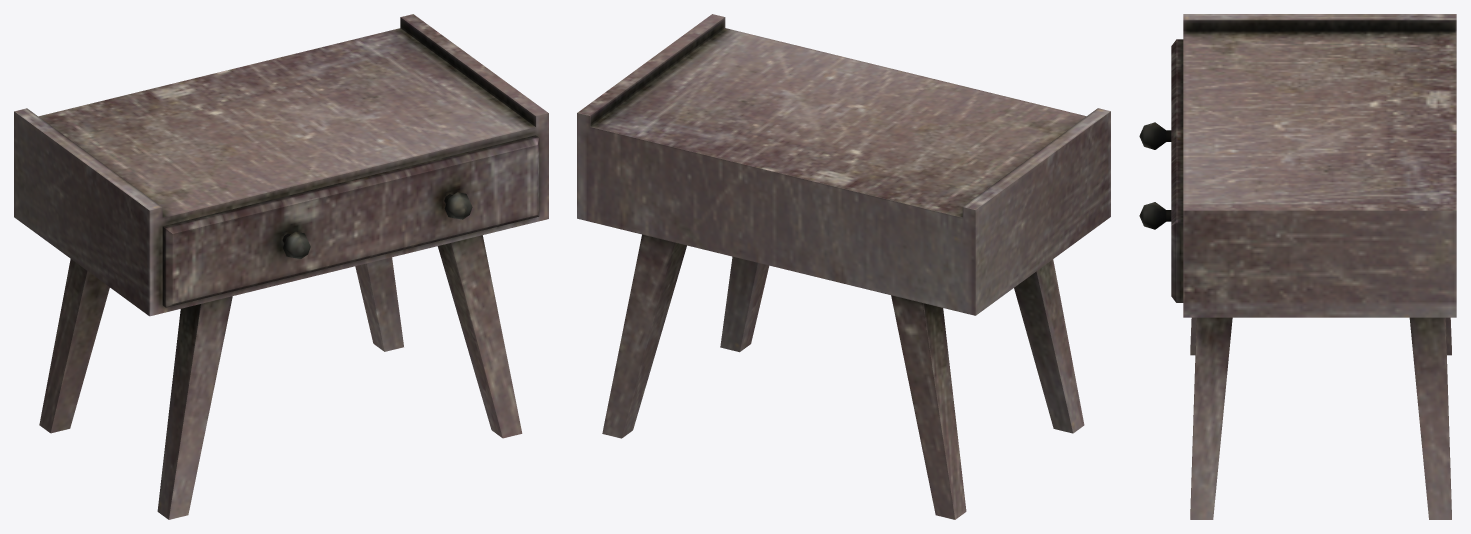
The model's file is TVTable.FBX.
3 views of the same model, side by side, from view 1: azimuth 30°, elevation 25°; view 2: azimuth 150°, elevation 25°; view 3: azimuth 270°, elevation 25° (orthographic).
Visible parts, largest first — view 1: TVTable; view 2: TVTable; view 3: TVTable.
Part boxes in pixels (x1=…): TVTable: x1=14, y1=14, x2=548, y2=519; TVTable: x1=577, y1=14, x2=1110, y2=519; TVTable: x1=1139, y1=14, x2=1456, y2=519.
Bounding box in the file's own units: 92.6 × 70.4 × 63.13.
